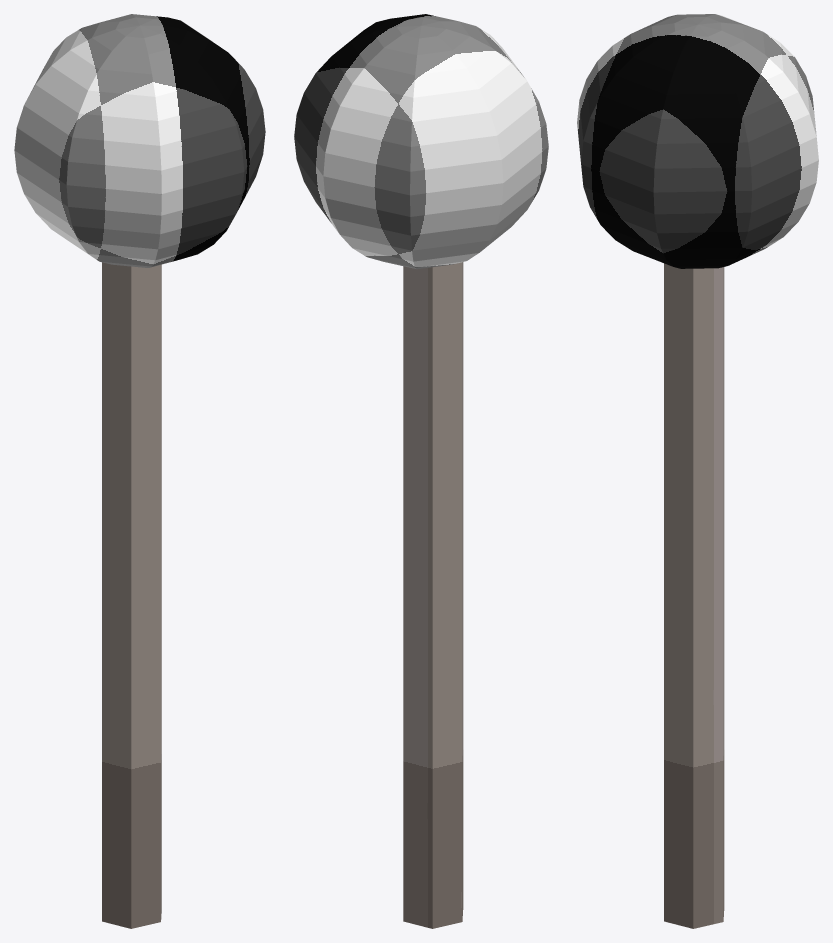
File: 01_planet.gltf
3 views of the same model, side by side, from view 1: azimuth 30°, elevation 25°; view 2: azimuth 150°, elevation 25°; view 3: azimuth 270°, elevation 25° (orthographic).
Visible parts, largest first — view 1: 01_planet; view 2: 01_planet; view 3: 01_planet.
Part boxes in pixels (x1=…): 01_planet: x1=14, y1=14, x2=265, y2=928; 01_planet: x1=294, y1=14, x2=548, y2=928; 01_planet: x1=577, y1=14, x2=818, y2=928.
Bounding box in the file's own units: 0.5622 × 2.29 × 0.5622.
2 materials, 2 textured.
